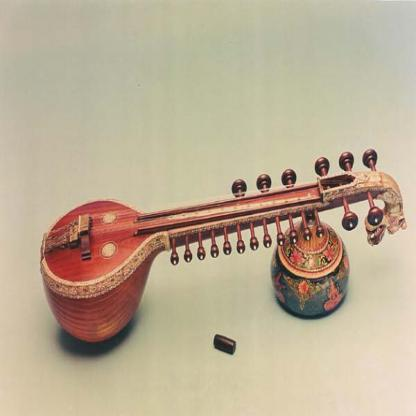Veena: (30, 158, 412, 306)
